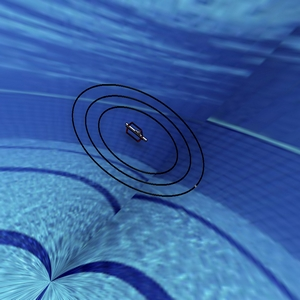circle: (56, 61, 212, 203)
submarine: (123, 116, 152, 143)
